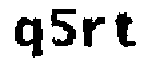5: (49, 6, 78, 50)
q: (13, 15, 43, 60)
r: (82, 12, 106, 50)
t: (114, 11, 139, 49)
